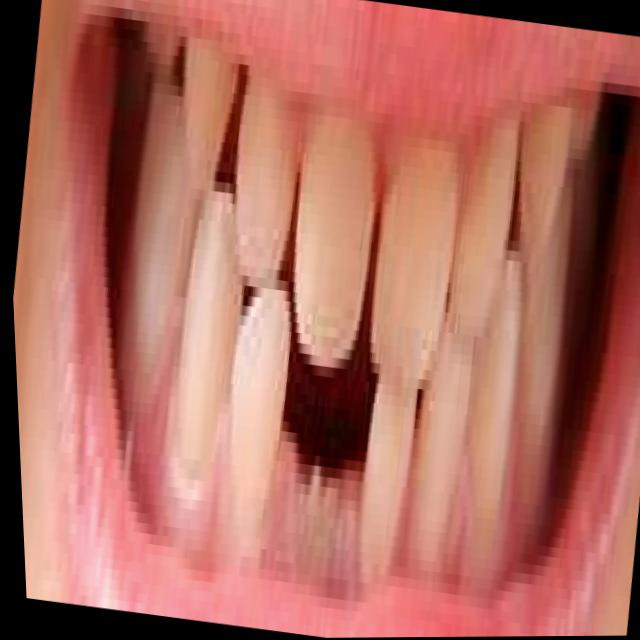hypodontia: (256, 333, 393, 603)
